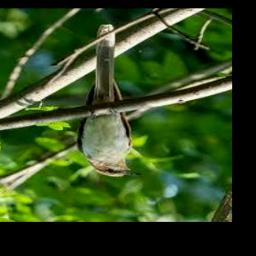Cuckoo: (77, 27, 144, 177)
